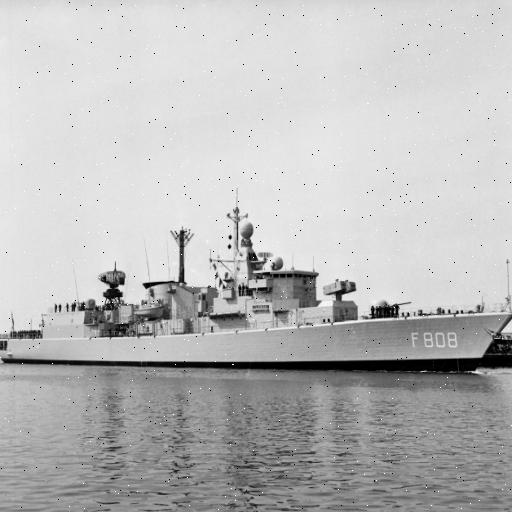Fragata: (1, 188, 512, 379)
